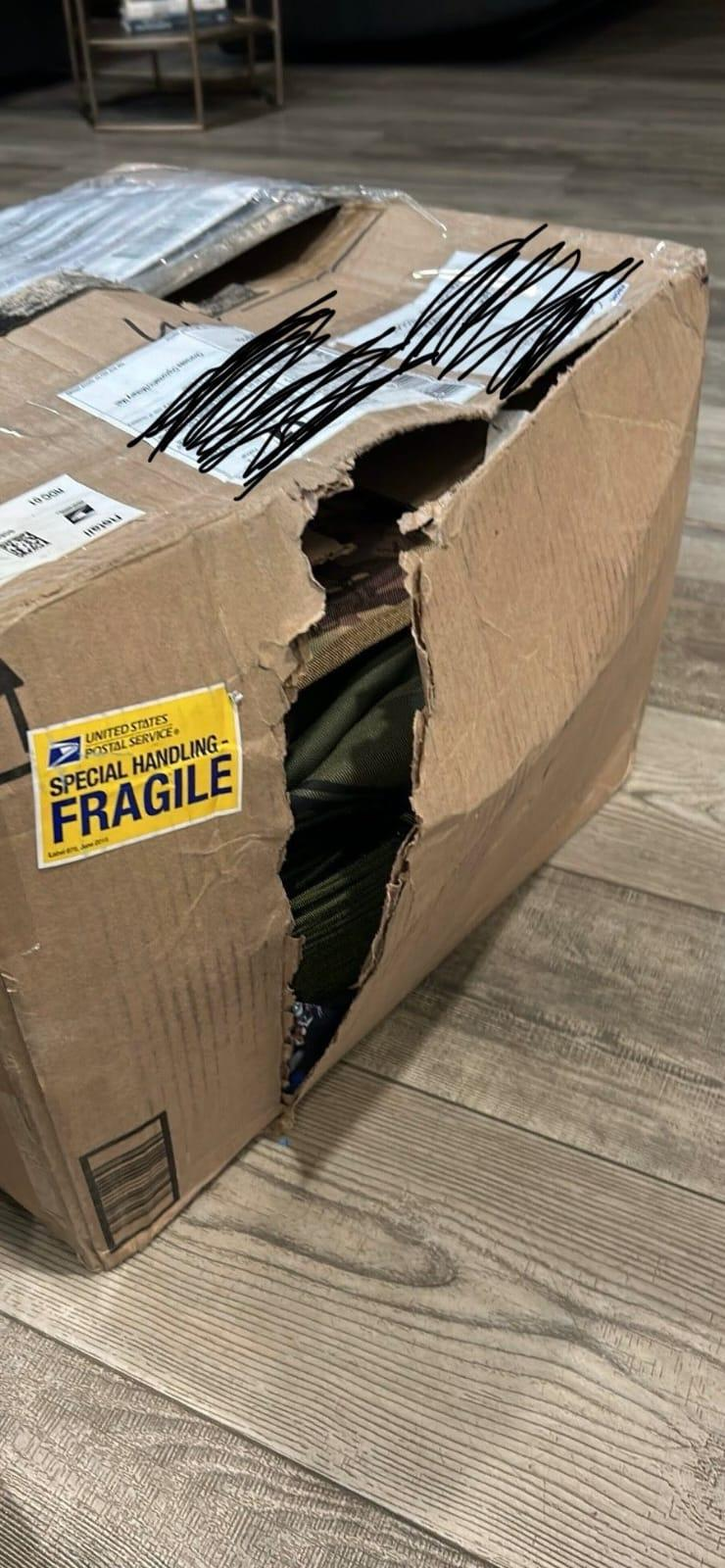damaged package: (265, 305, 629, 1140), (75, 194, 391, 317)
undamaged: (0, 135, 724, 1340)
